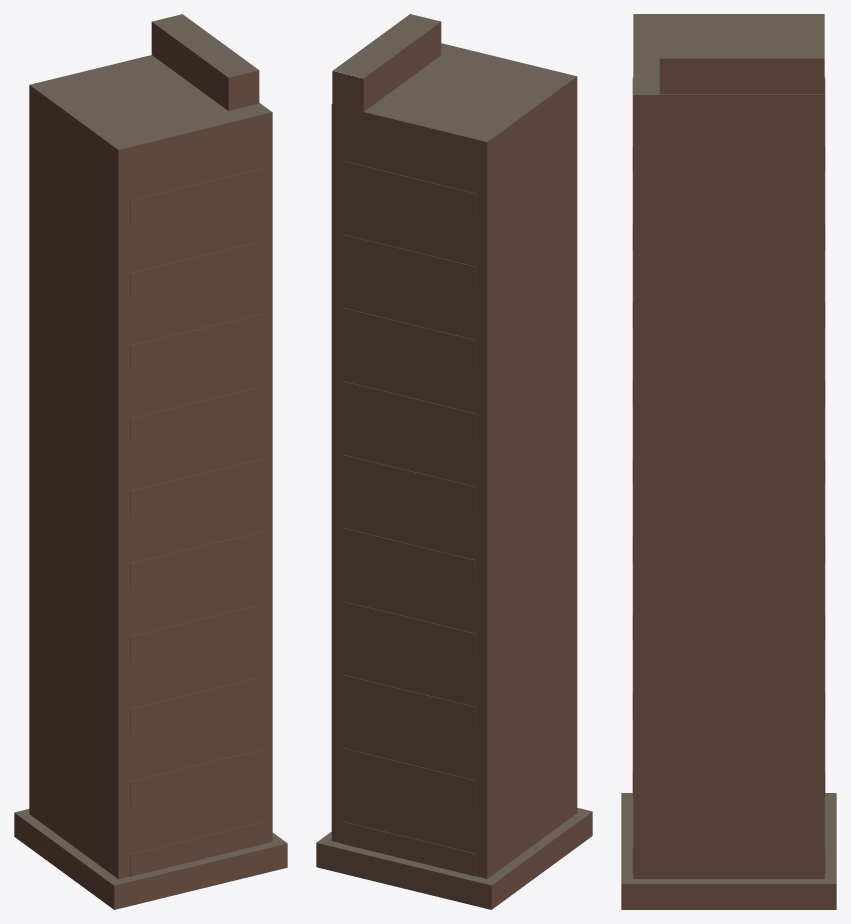
The model's file is ew-chimney.far-facades-v2.lod2.glb.
The picture shows the model from 3 angles, left to right: view 1: azimuth 30°, elevation 25°; view 2: azimuth 150°, elevation 25°; view 3: azimuth 270°, elevation 25°; orthographic projection. The views are drawn at different scales.
Parts seen in each view (by area): view 1: ew-chimney; view 2: ew-chimney; view 3: ew-chimney.
Boxes of the visible parts, left/top/right/bottom form: ew-chimney: left=14, top=14, right=287, bottom=909; ew-chimney: left=316, top=14, right=592, bottom=909; ew-chimney: left=621, top=14, right=836, bottom=909.
Bounding box in the file's own units: 9 × 39.02 × 9.
